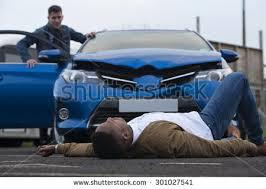bonnet-dent: (74, 42, 221, 77)
